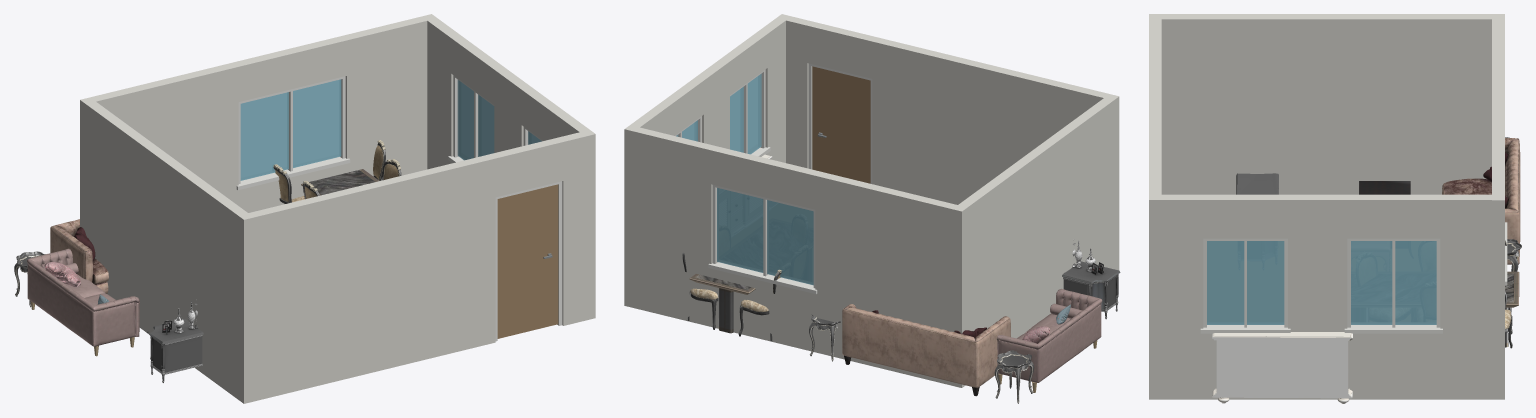
Rendered from instructscene.glb.
The picture shows the model from 3 angles, left to right: view 1: azimuth 30°, elevation 25°; view 2: azimuth 150°, elevation 25°; view 3: azimuth 270°, elevation 25°; orthographic projection. The views are drawn at different scales.
Visible parts, largest first — view 1: wall|scenesmith_107__R00|0, wall|scenesmith_107__R00|1, wall|scenesmith_107__R00|2, wall|scenesmith_107__R00|3, wall|scenesmith_107__R00|0 Door 0 | wood leaf, wall|scenesmith_107__R00|1 Window 0 | glazing, raw_model, solid_001, wall|scenesmith_107__R00|3 Window 0 | glazing, wall|scenesmith_107__R00|1 Window 0 | jamb, raw_model.004, raw_model.001 (+3 smaller); view 2: wall|scenesmith_107__R00|1, wall|scenesmith_107__R00|0, wall|scenesmith_107__R00|2, wall|scenesmith_107__R00|3, raw_model.004, wall|scenesmith_107__R00|1 Window 0 | glazing, wall|scenesmith_107__R00|0 Door 0 | wood leaf, raw_model, wall|scenesmith_107__R00|1 Window 0 | jamb, wall|scenesmith_107__R00|3 Window 0 | glazing, solid_001, raw_model.010 (+4 smaller); view 3: wall|scenesmith_107__R00|2, wall|scenesmith_107__R00|3, wall|scenesmith_107__R00|3 Window 0 | glazing, raw_model.007, wall|scenesmith_107__R00|0, wall|scenesmith_107__R00|1, wall|scenesmith_107__R00|3 Window 0 | jamb, raw_model.004, solid_001, raw_model.009, raw_model.005, raw_model.010.
Boxes of the visible parts, bbox=[...] form: wall|scenesmith_107__R00|0: bbox=[238, 132, 595, 403]; wall|scenesmith_107__R00|1: bbox=[80, 16, 427, 233]; wall|scenesmith_107__R00|2: bbox=[86, 97, 247, 403]; wall|scenesmith_107__R00|3: bbox=[422, 14, 594, 169]; wall|scenesmith_107__R00|0 Door 0 | wood leaf: bbox=[497, 184, 558, 338]; wall|scenesmith_107__R00|1 Window 0 | glazing: bbox=[240, 79, 341, 180]; raw_model: bbox=[27, 248, 139, 356]; solid_001: bbox=[148, 299, 203, 382]; wall|scenesmith_107__R00|3 Window 0 | glazing: bbox=[457, 80, 541, 160]; wall|scenesmith_107__R00|1 Window 0 | jamb: bbox=[236, 76, 350, 190]; raw_model.004: bbox=[50, 219, 108, 293]; raw_model.001: bbox=[273, 140, 401, 203]; wall|scenesmith_107__R00|1: bbox=[634, 127, 967, 387]; wall|scenesmith_107__R00|0: bbox=[786, 16, 1118, 204]; wall|scenesmith_107__R00|2: bbox=[952, 97, 1119, 387]; wall|scenesmith_107__R00|3: bbox=[624, 14, 790, 307]; raw_model.004: bbox=[842, 304, 1010, 396]; wall|scenesmith_107__R00|1 Window 0 | glazing: bbox=[717, 188, 813, 285]; wall|scenesmith_107__R00|0 Door 0 | wood leaf: bbox=[812, 66, 870, 183]; raw_model: bbox=[996, 289, 1102, 392]; wall|scenesmith_107__R00|1 Window 0 | jamb: bbox=[708, 185, 817, 293]; wall|scenesmith_107__R00|3 Window 0 | glazing: bbox=[676, 73, 761, 154]; solid_001: bbox=[1062, 239, 1120, 319]; raw_model.010: bbox=[809, 314, 1034, 403]; wall|scenesmith_107__R00|2: bbox=[1161, 14, 1504, 194]; wall|scenesmith_107__R00|3: bbox=[1149, 194, 1504, 399]; wall|scenesmith_107__R00|3 Window 0 | glazing: bbox=[1207, 241, 1436, 324]; raw_model.007: bbox=[1212, 332, 1352, 403]; wall|scenesmith_107__R00|0: bbox=[1149, 14, 1161, 399]; wall|scenesmith_107__R00|1: bbox=[1492, 14, 1504, 399]; wall|scenesmith_107__R00|3 Window 0 | jamb: bbox=[1200, 238, 1442, 333]; raw_model.004: bbox=[1442, 138, 1520, 264]; solid_001: bbox=[1236, 173, 1278, 194]; raw_model.009: bbox=[1359, 181, 1410, 194]; raw_model.005: bbox=[1505, 271, 1519, 347]; raw_model.010: bbox=[1505, 137, 1521, 271].
Bounding box in the file's own units: 6.35 × 2.61 × 4.4.
Materials: 15 (9 with a texture image).
